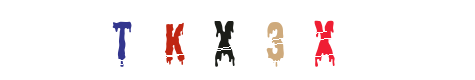3: (211, 0, 291, 80)
K: (184, 0, 264, 80)
T: (92, 0, 172, 80)
X: (197, 0, 277, 80), (216, 0, 296, 80)
